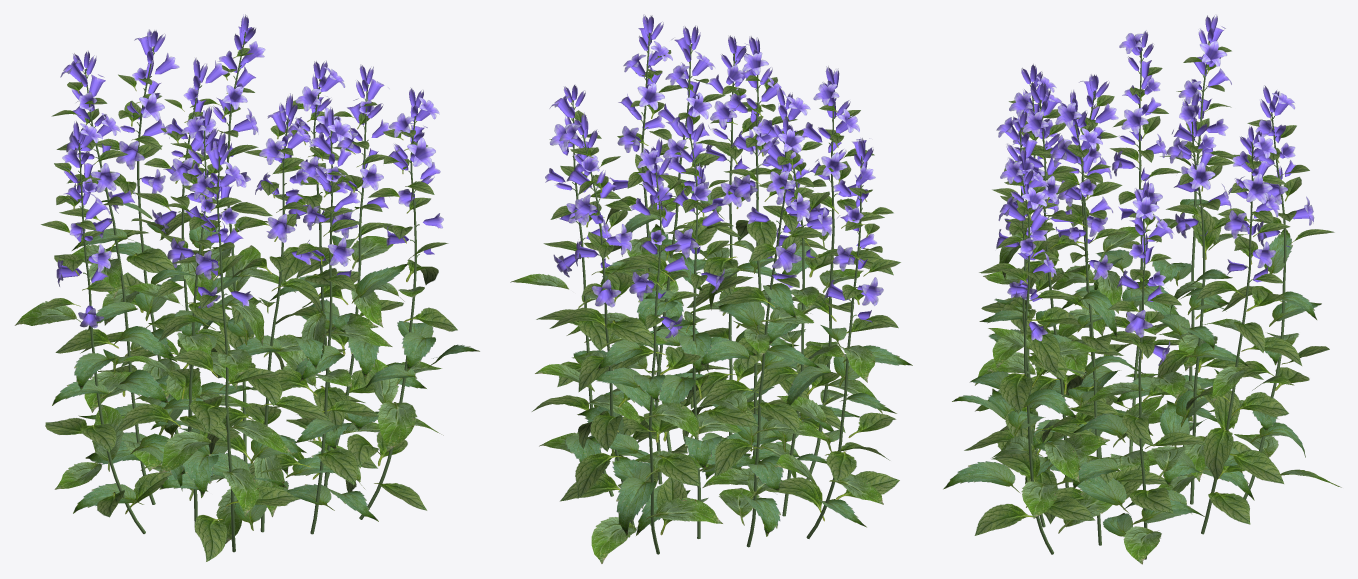
Rendered from campanula.gltf.
The picture shows the model from 3 angles, left to right: view 1: azimuth 30°, elevation 25°; view 2: azimuth 150°, elevation 25°; view 3: azimuth 270°, elevation 25°; orthographic projection. The views are drawn at different scales.
Visible parts, largest first — view 1: Campanula_latifolia_005.002, Campanula_latifolia_005.005, Campanula_latifolia_005.003, Campanula_latifolia_005.004, Campanula_latifolia_005.001, Campanula_latifolia_005; view 2: Campanula_latifolia_005.002, Campanula_latifolia_005.005, Campanula_latifolia_005.003, Campanula_latifolia_005.004, Campanula_latifolia_005.001, Campanula_latifolia_005; view 3: Campanula_latifolia_005.002, Campanula_latifolia_005.005, Campanula_latifolia_005.003, Campanula_latifolia_005.004, Campanula_latifolia_005.001, Campanula_latifolia_005.
Boxes of the visible parts, x1,y1,x2,y2 form: Campanula_latifolia_005.002: (36,48,457,561); Campanula_latifolia_005.005: (56,14,439,328); Campanula_latifolia_005.003: (52,200,479,530); Campanula_latifolia_005.004: (14,236,443,543); Campanula_latifolia_005.001: (78,32,419,552); Campanula_latifolia_005: (62,41,443,306); Campanula_latifolia_005.002: (532,50,900,535); Campanula_latifolia_005.005: (549,14,883,338); Campanula_latifolia_005.003: (565,179,912,536); Campanula_latifolia_005.004: (510,198,883,563); Campanula_latifolia_005.001: (571,33,863,554); Campanula_latifolia_005: (545,64,877,289); Campanula_latifolia_005.002: (964,46,1334,535); Campanula_latifolia_005.005: (996,15,1314,365); Campanula_latifolia_005.003: (943,199,1321,536); Campanula_latifolia_005.004: (974,218,1341,564); Campanula_latifolia_005.001: (1018,41,1286,559); Campanula_latifolia_005: (1004,54,1296,341).
Bounding box in the file's own units: 96.11 × 111 × 90.05.
Materials: 5 (4 with a texture image).
